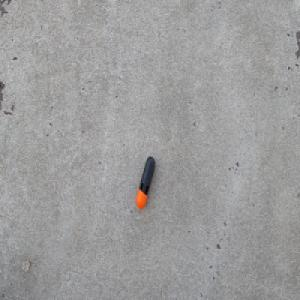PlasticPart: (135, 155, 155, 209)
